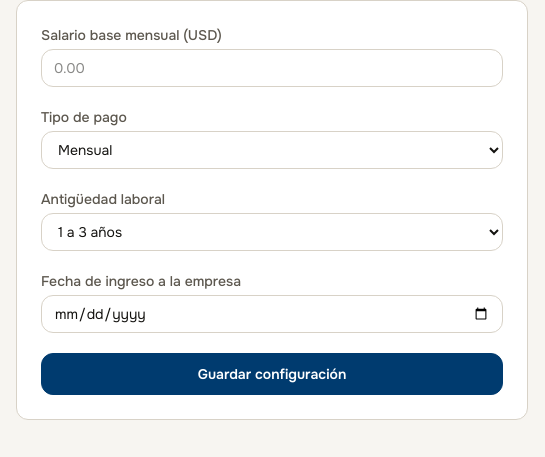
it: ConfigInicial › muestra error cuando salarioBase es negativo
In the number field labelled "Salario base mensual (USD)": (272, 68) [41, 49, 503, 87], type "-100"
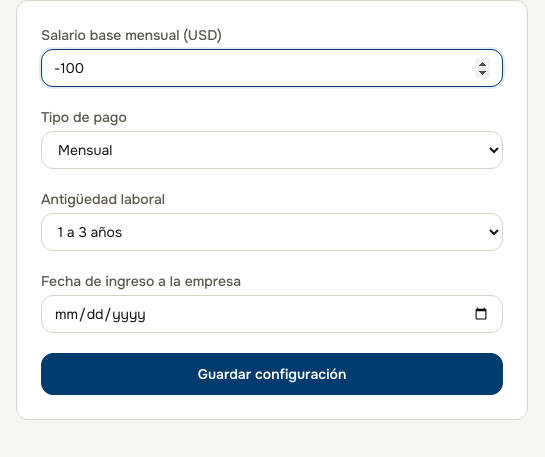
Click the button "Guardar configuración": click(272, 374) [41, 353, 503, 395]
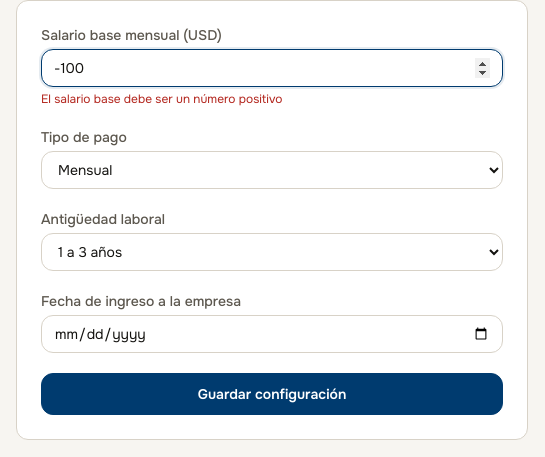
Expected: the text "El salario base debe ser un número positivo" is shown, [41, 91, 282, 107]
